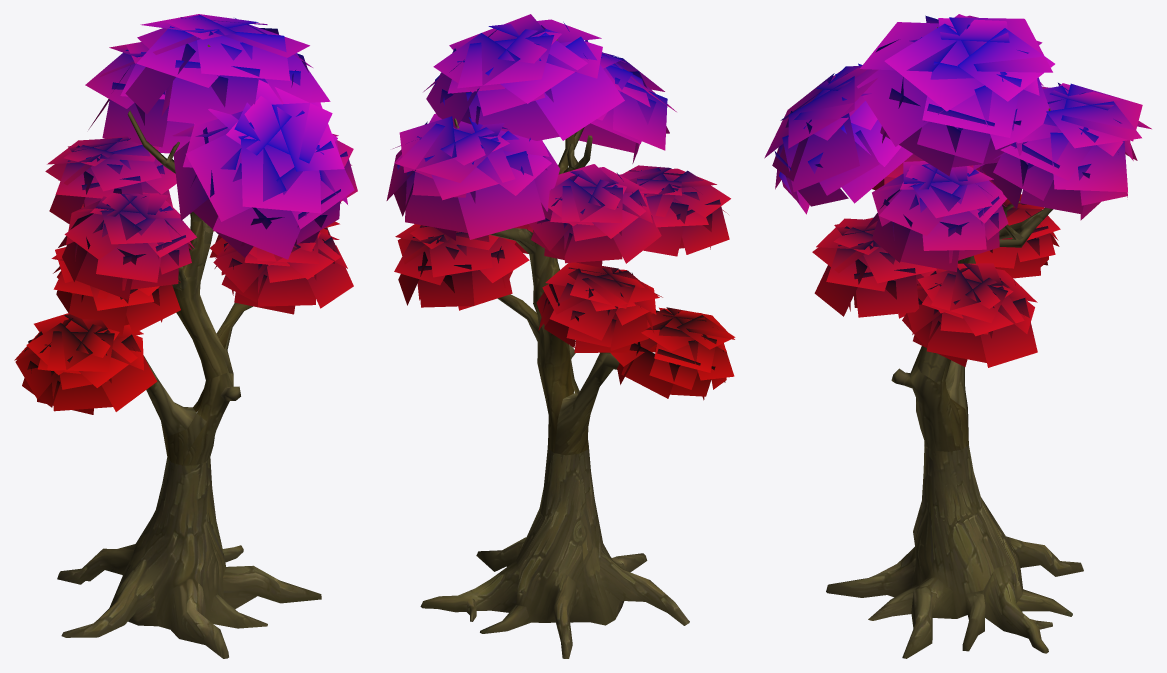
File: Jungle_tree_03.fbx
The picture shows the model from 3 angles, left to right: view 1: azimuth 30°, elevation 25°; view 2: azimuth 150°, elevation 25°; view 3: azimuth 270°, elevation 25°; orthographic projection. The views are drawn at different scales.
Parts seen in each view (by area): view 1: Jungle_tree_03; view 2: Jungle_tree_03; view 3: Jungle_tree_03.
Boxes of the visible parts, x1,y1,x2,y2 form: Jungle_tree_03: (14, 14, 357, 658); Jungle_tree_03: (386, 14, 735, 658); Jungle_tree_03: (764, 14, 1151, 658).
Bounding box in the file's own units: 521 × 904 × 529.
